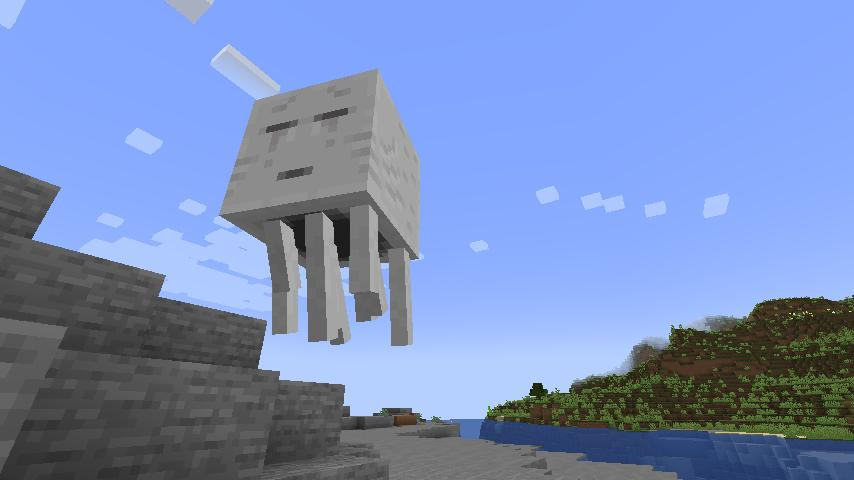ghast: (216, 67, 424, 349)
